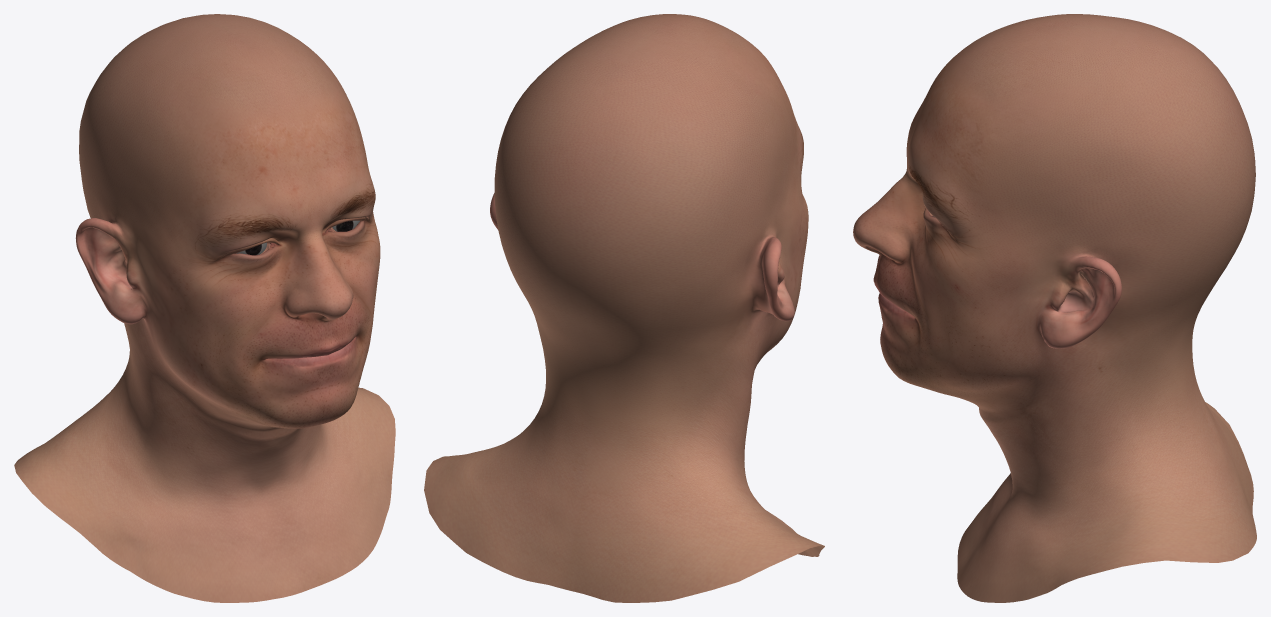
3 views of the same model, side by side, from view 1: azimuth 30°, elevation 25°; view 2: azimuth 150°, elevation 25°; view 3: azimuth 270°, elevation 25° (orthographic). The views are drawn at different scales.
Parts seen in each view (by area): view 1: Registered head; view 2: Registered head; view 3: Registered head.
Boxes of the visible parts, x1=… form: Registered head: x1=14, y1=14, x2=395, y2=602; Registered head: x1=424, y1=14, x2=824, y2=602; Registered head: x1=853, y1=14, x2=1256, y2=602.
Bounding box in the file's own units: 1.3 × 1.8 × 1.22.
Materials: 3 (3 with a texture image).
